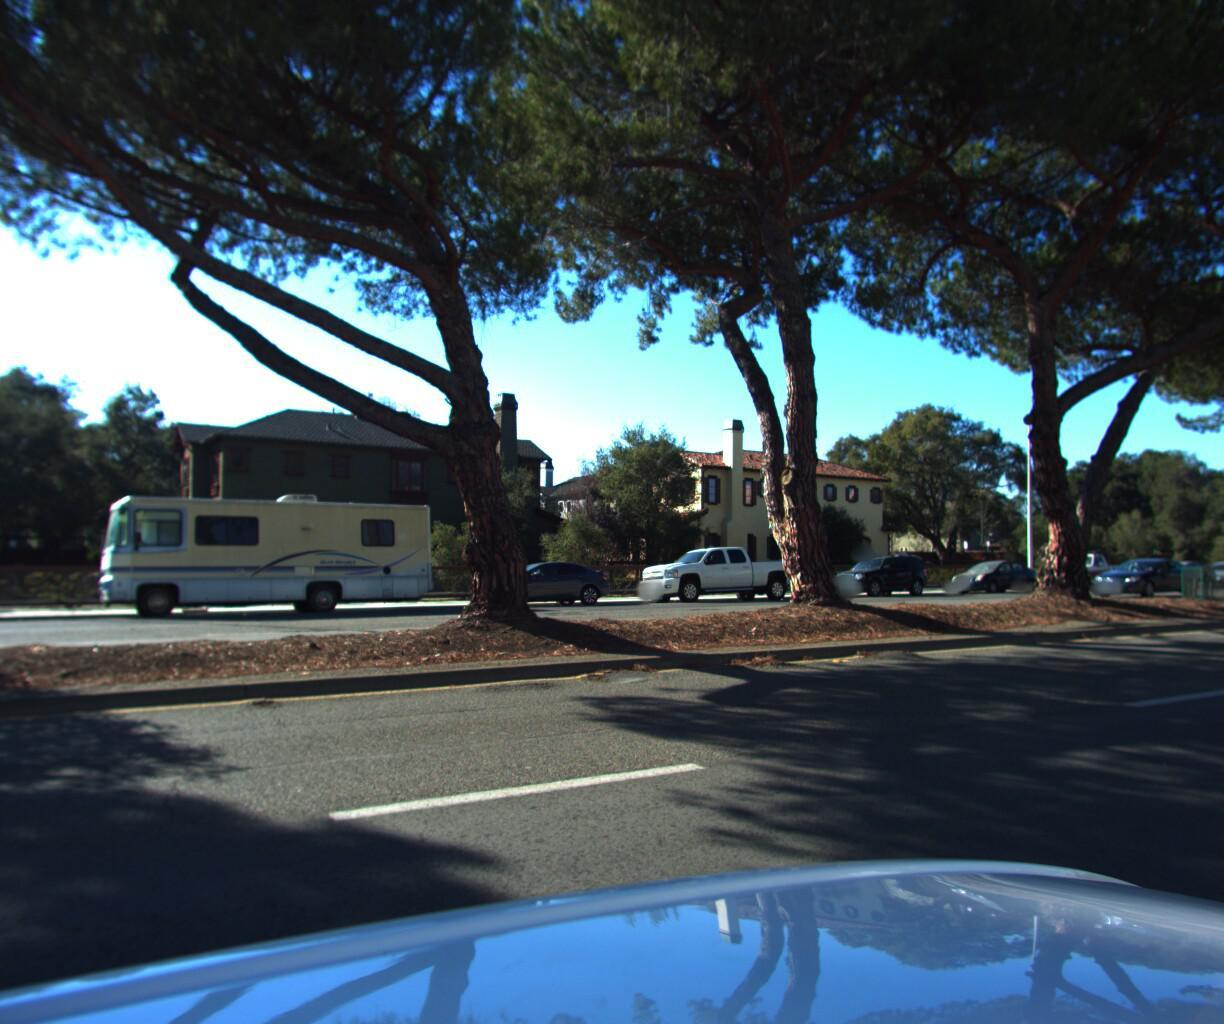car: (629, 539, 808, 609), (457, 559, 615, 614), (817, 548, 931, 599), (1027, 543, 1143, 591), (1088, 548, 1203, 594), (936, 553, 1043, 594), (1182, 556, 1224, 587)
other_vehicle: (91, 481, 439, 623)
